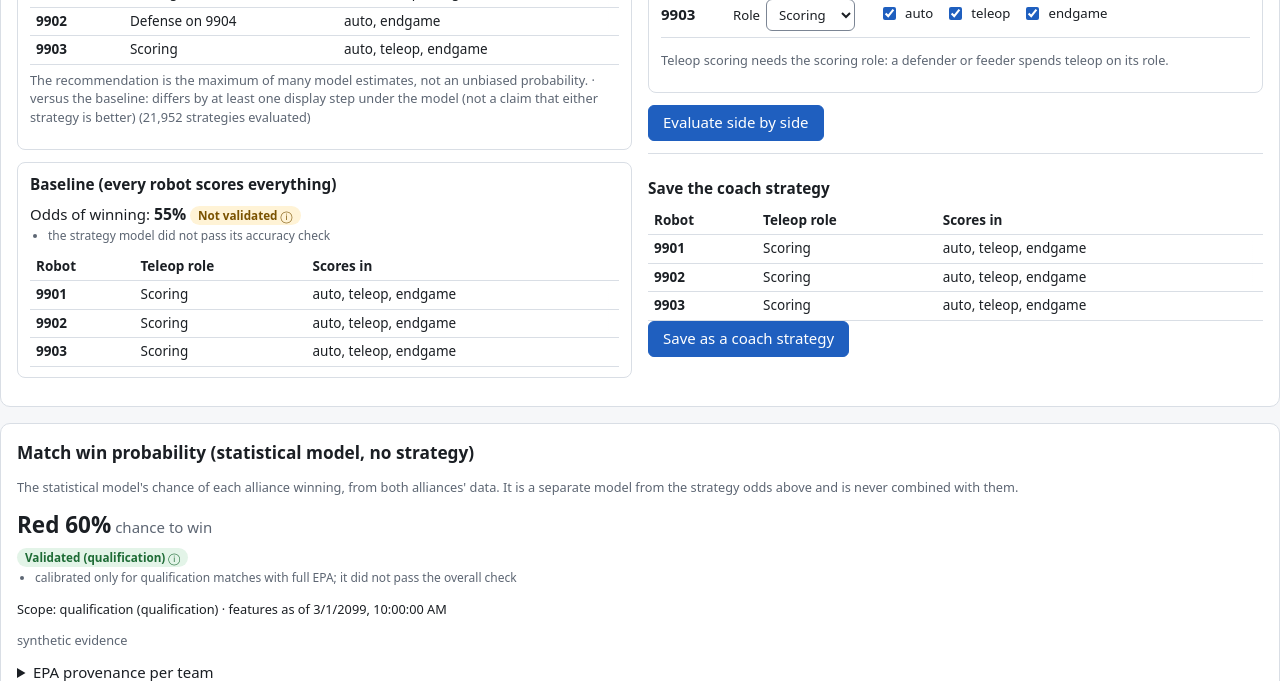
Test case: MatchPage (P8-M4) › gates coach writes: none without access; with access, a double click stores once
(page scrolled)
Double-click the button "Save as a coach strategy": (749, 339) [648,321,849,357]
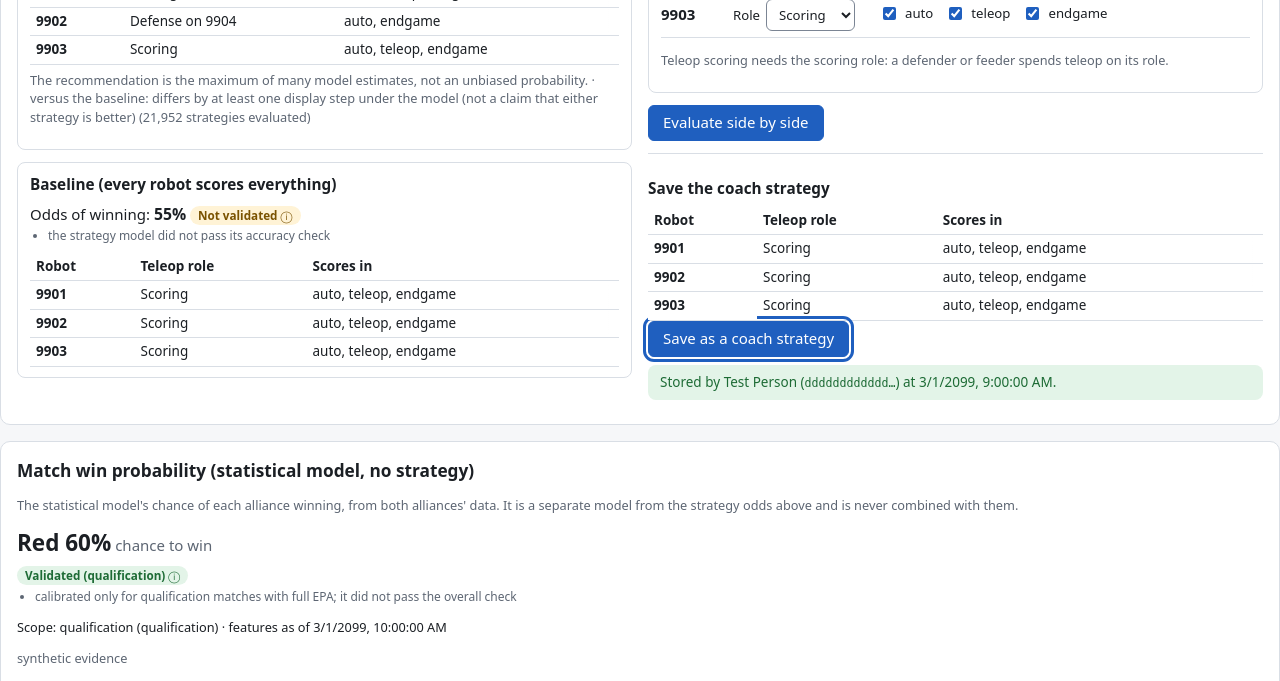
Result: the text "Stored by Test Person" is shown at [648,365,1263,400]
